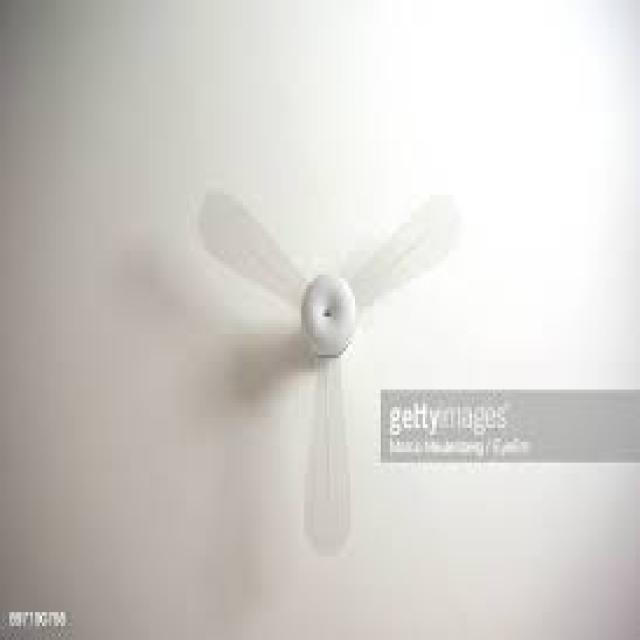fan_off: (197, 185, 463, 552)
